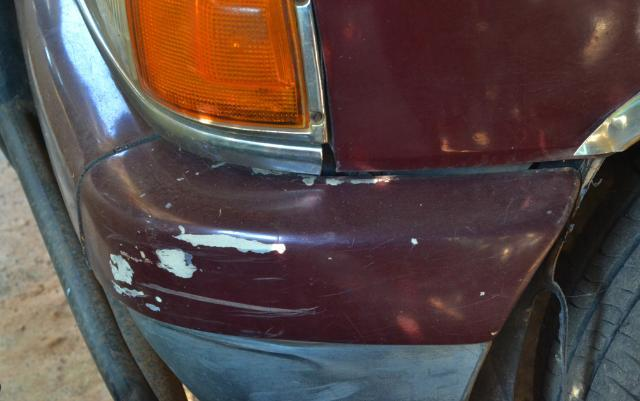scratch: (103, 226, 425, 326)
